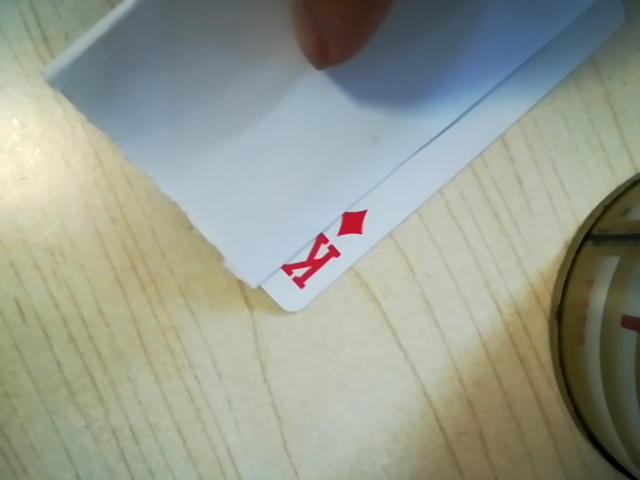fk k: (274, 205, 372, 290)
